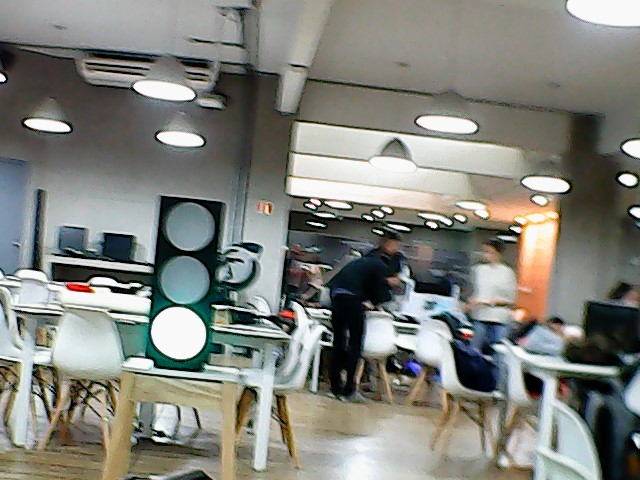verde: (137, 182, 232, 379)
